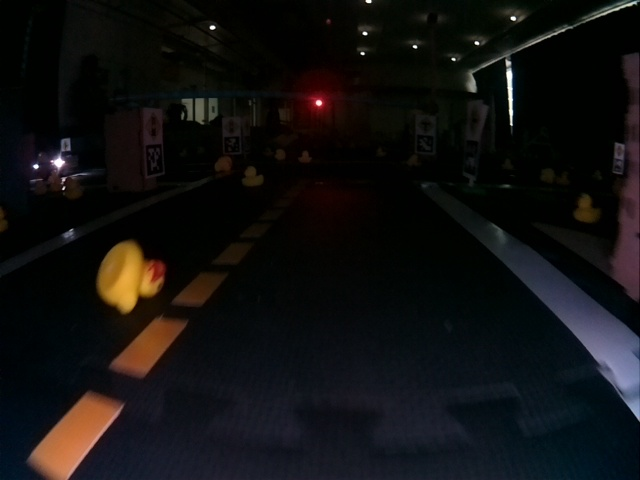Duckie: (96, 240, 166, 313), (574, 193, 602, 221), (243, 167, 264, 186), (65, 182, 83, 199), (216, 157, 232, 172), (540, 168, 555, 182), (33, 181, 46, 194), (298, 151, 311, 162), (557, 173, 570, 182), (408, 156, 418, 165), (275, 150, 284, 159), (377, 149, 385, 157)
Intersection sign: (468, 104, 483, 136), (417, 118, 434, 132)
QR code: (145, 143, 164, 176), (463, 140, 479, 176), (417, 136, 435, 153), (224, 138, 241, 153)
Signal sign: (146, 111, 161, 141), (224, 119, 239, 134)
Traffic light: (314, 98, 324, 108)
